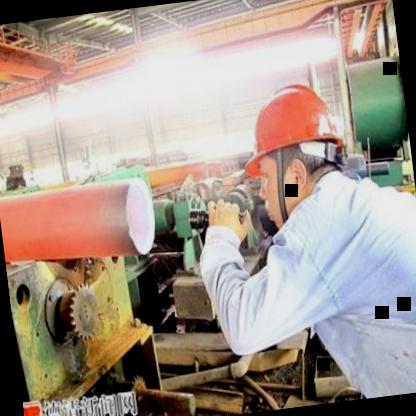helmet: (232, 62, 360, 228)
